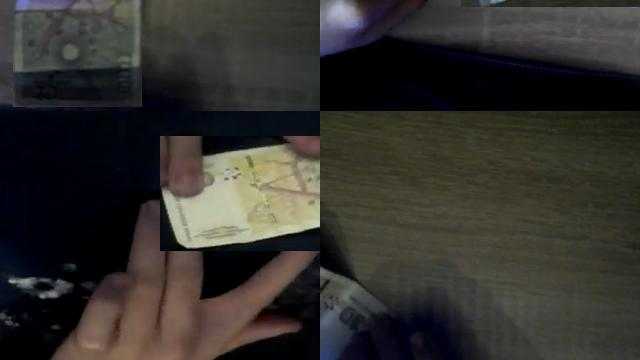10leva: (160, 145, 320, 251), (13, 0, 142, 107)
